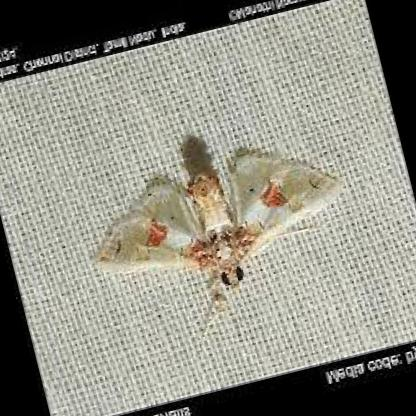leucinodes: (90, 154, 345, 288)
